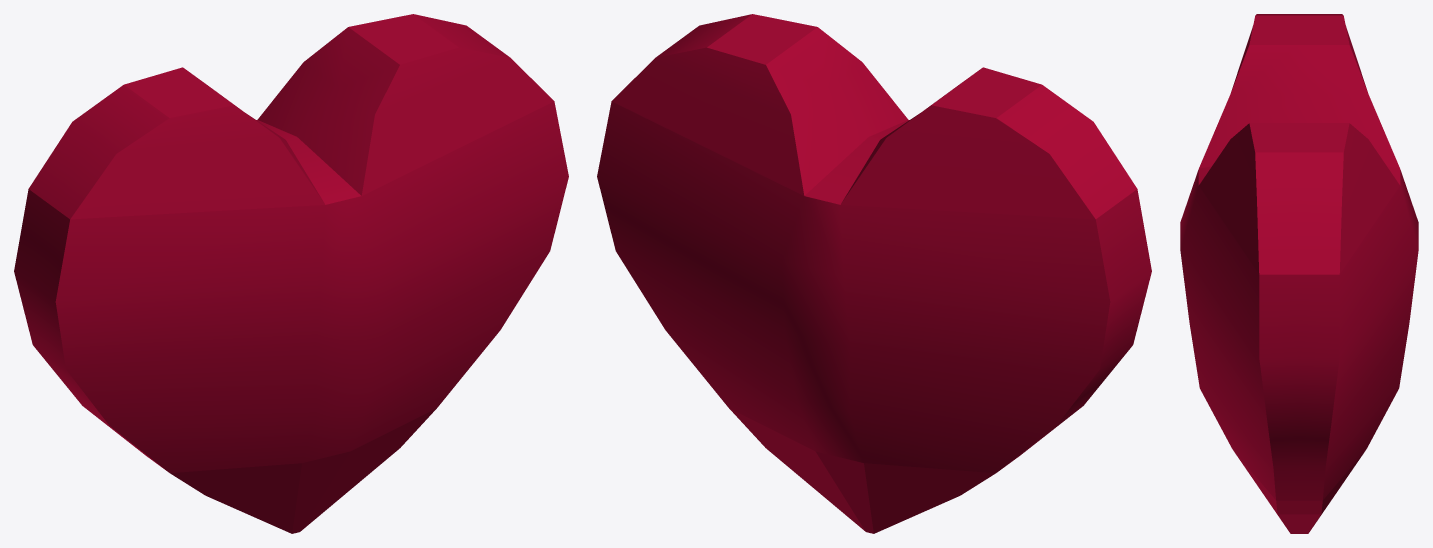
File: heart_powerup.fbx
The picture shows the model from 3 angles, left to right: view 1: azimuth 30°, elevation 25°; view 2: azimuth 150°, elevation 25°; view 3: azimuth 270°, elevation 25°; orthographic projection. The views are drawn at different scales.
Visible parts, largest first — view 1: pCube1; view 2: pCube1; view 3: pCube1.
Boxes of the visible parts, <box> form: pCube1: <box>14,14,568,533</box>; pCube1: <box>597,14,1151,533</box>; pCube1: <box>1180,14,1418,533</box>.
Bounding box in the file's own units: 3.76 × 3.24 × 1.56.
